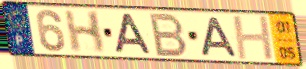6: (34, 8, 67, 54)
A: (114, 12, 155, 56), (198, 16, 239, 58)
B: (149, 12, 190, 58)
H: (230, 14, 277, 62), (62, 10, 107, 55)
